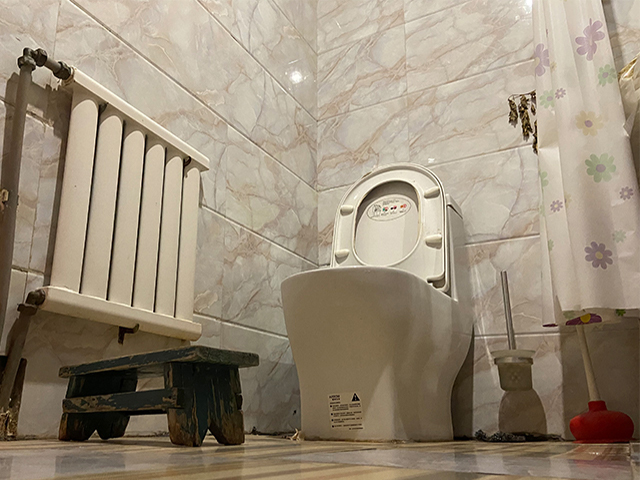closestool: (278, 160, 476, 444)
stool: (57, 344, 262, 448)
